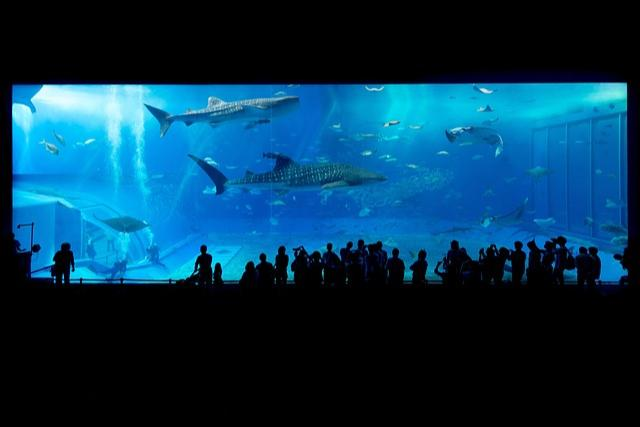Non_Gorille: (8, 7, 640, 427)
